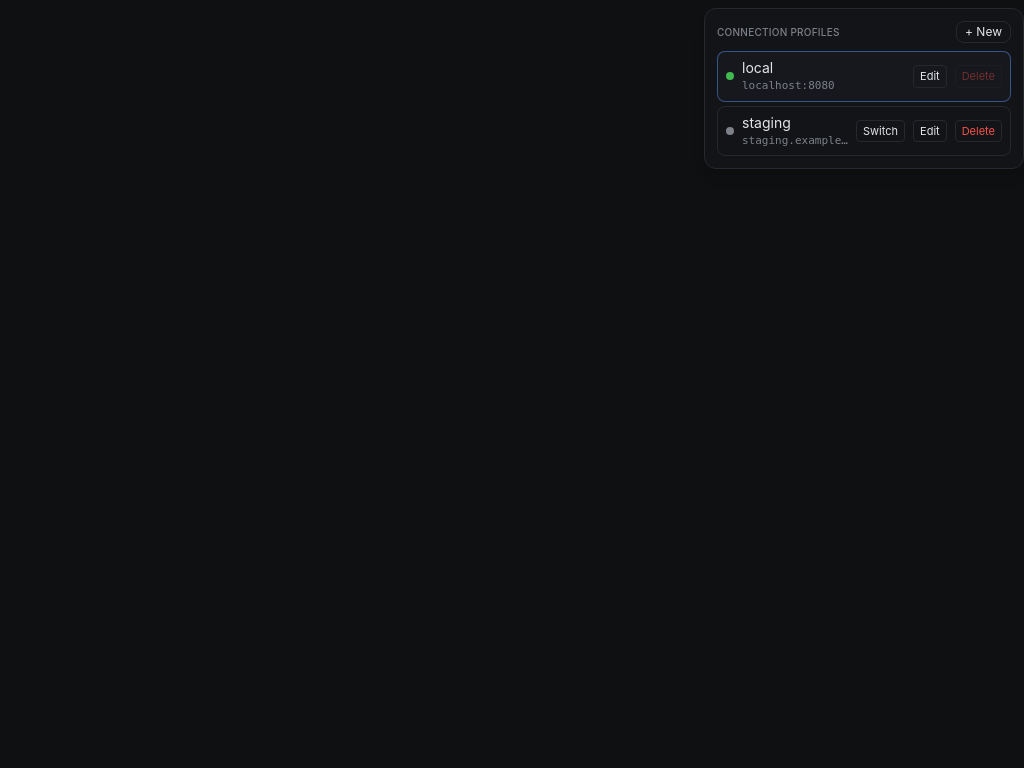
Test: ConnectionPanel new profile form › invalidates a passing test when a form field changes
Click the button "+ New" at x=984, y=32, box x1=956 y1=21 x2=1011 y2=43
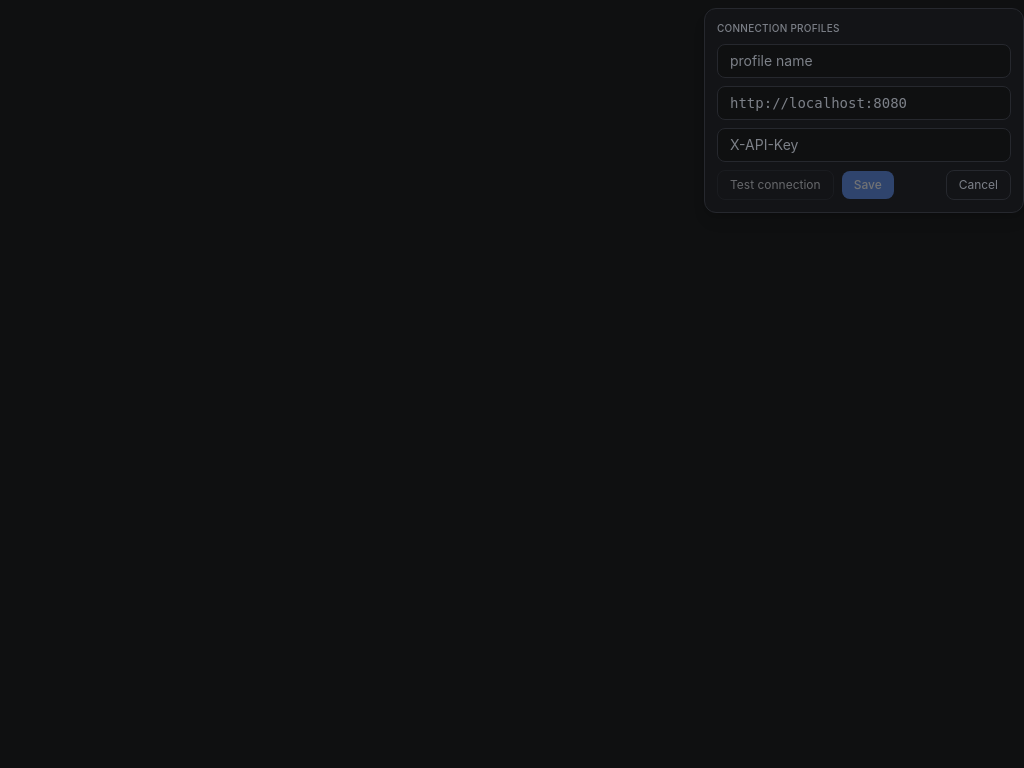
Type "prod" into the field titled "profile name" at x=864, y=61, box x1=717 y1=44 x2=1011 y2=78
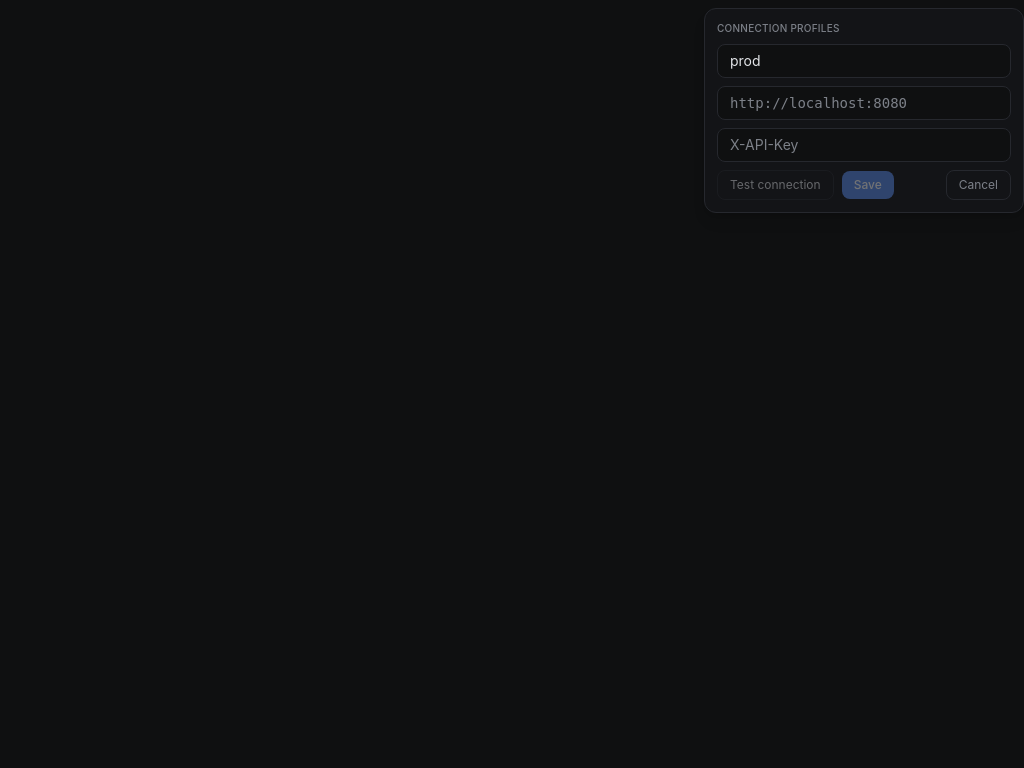
Type "https://prod.example.com" into the field titled "Server base URL" at x=864, y=103, box x1=717 y1=86 x2=1011 y2=120
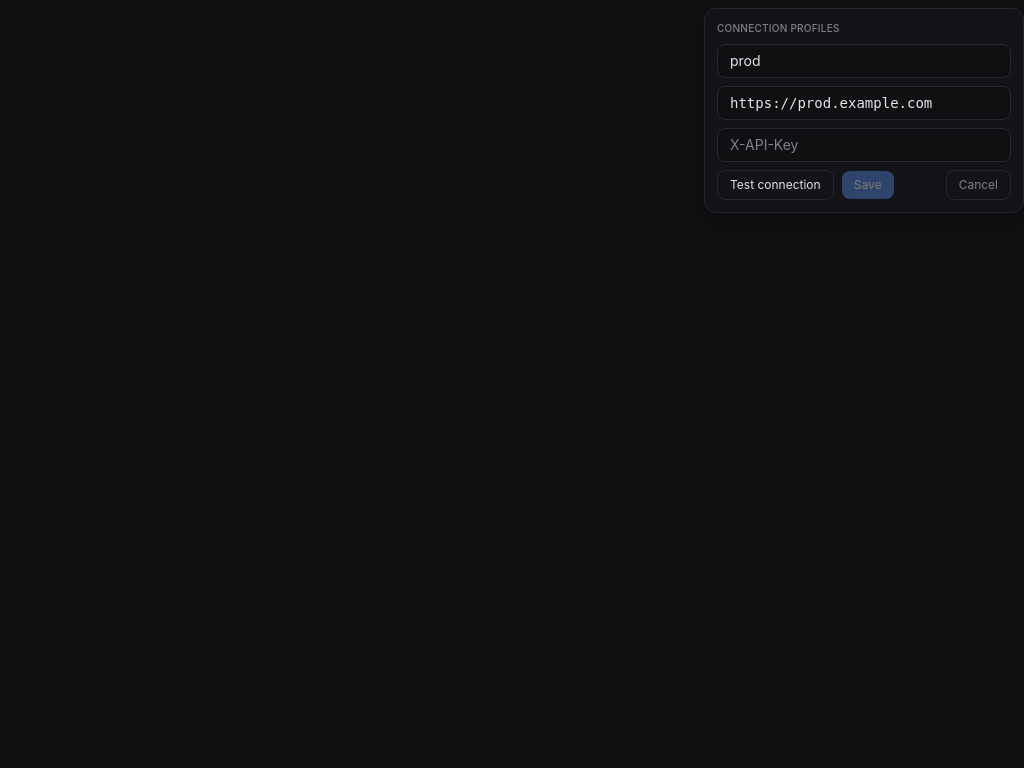
Type "prod-key" into the password field with placeholder "X-API-Key" at x=864, y=145, box x1=717 y1=128 x2=1011 y2=162
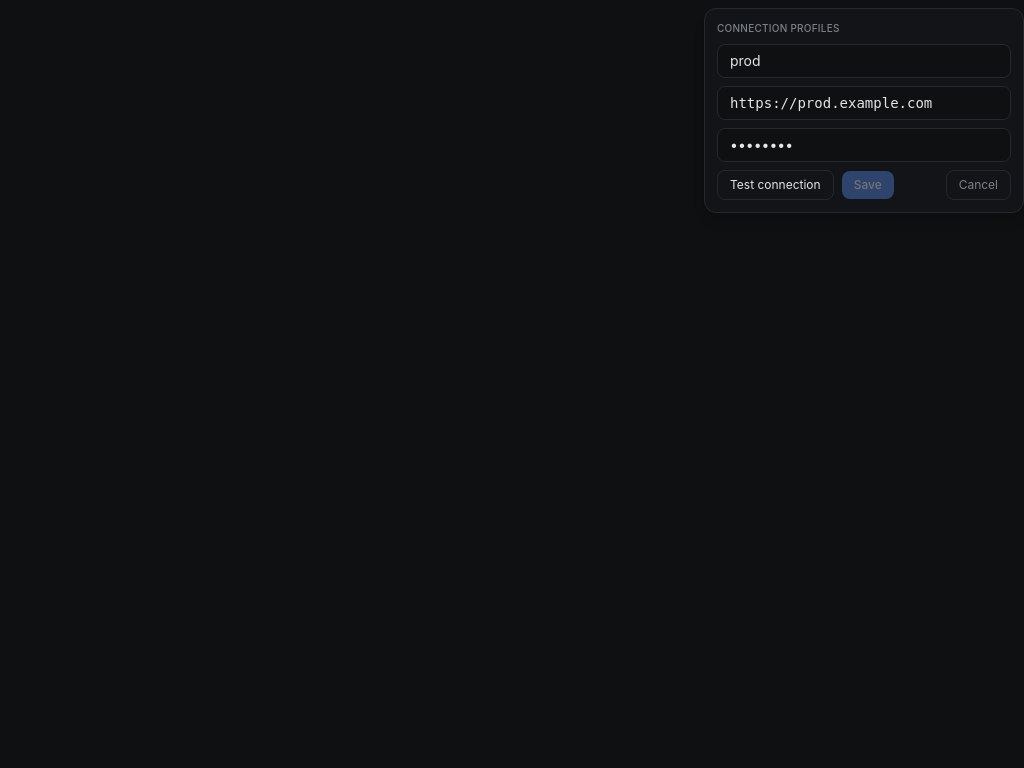
Click the button "Test connection" at x=775, y=185, box x1=717 y1=170 x2=834 y2=200
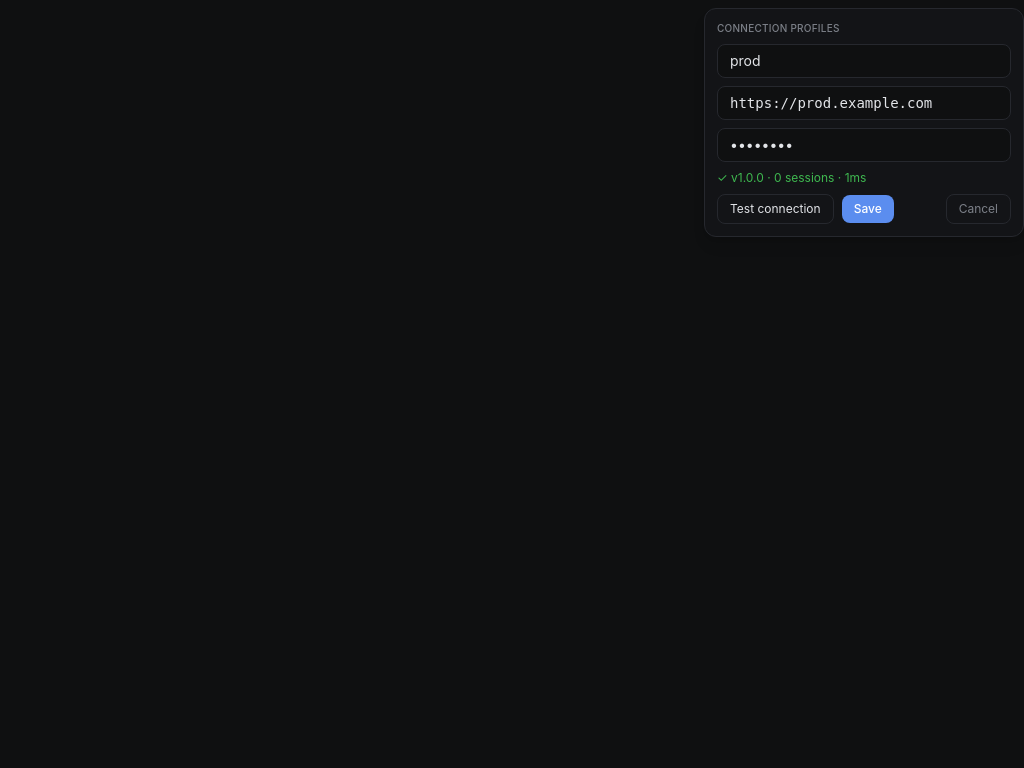
Now the text "✓ v1.0.0 · 0 sessions · 1ms" is shown, box x1=717 y1=170 x2=866 y2=185
Replace the text in the field titled "Server base URL" with "https://other.example.com" at x=864, y=103, box x1=717 y1=86 x2=1011 y2=120
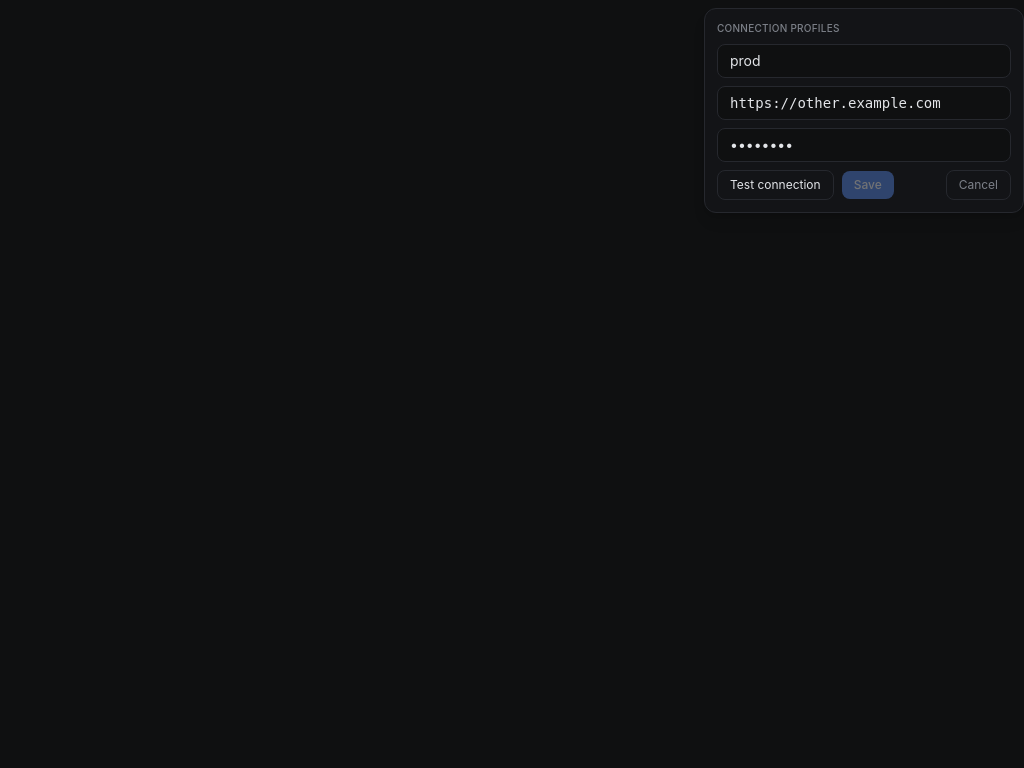
Now the button "Save" is disabled, box x1=842 y1=171 x2=894 y2=199
